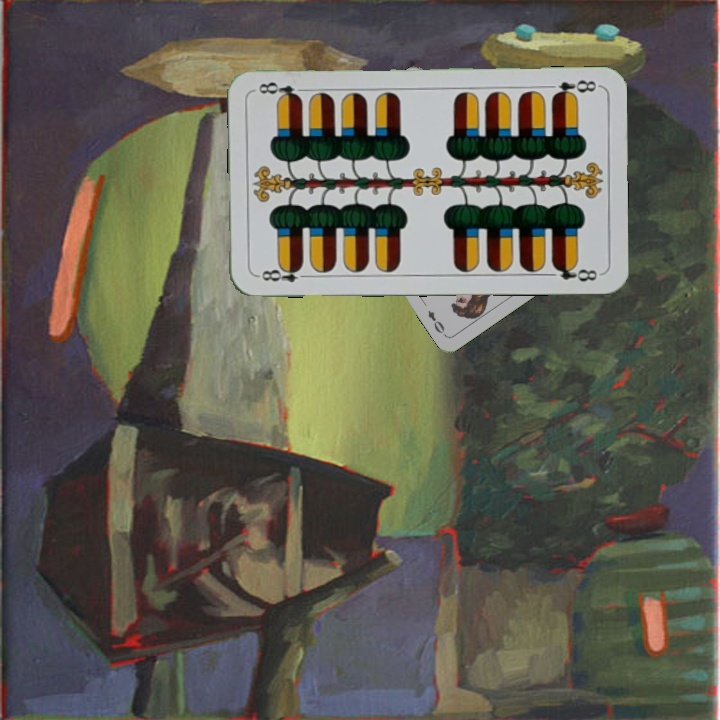E8: (253, 262, 312, 285), (548, 76, 601, 100)
